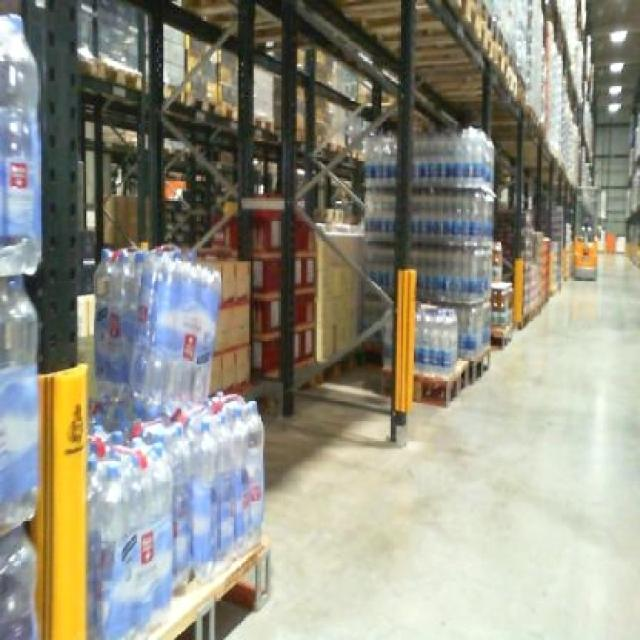pallets: (409, 126, 491, 402), (365, 132, 394, 288)
